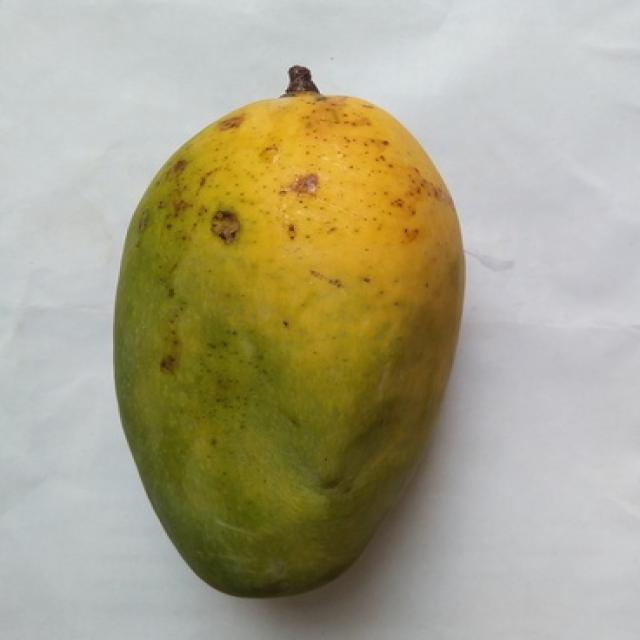Mango: (118, 86, 463, 594)
